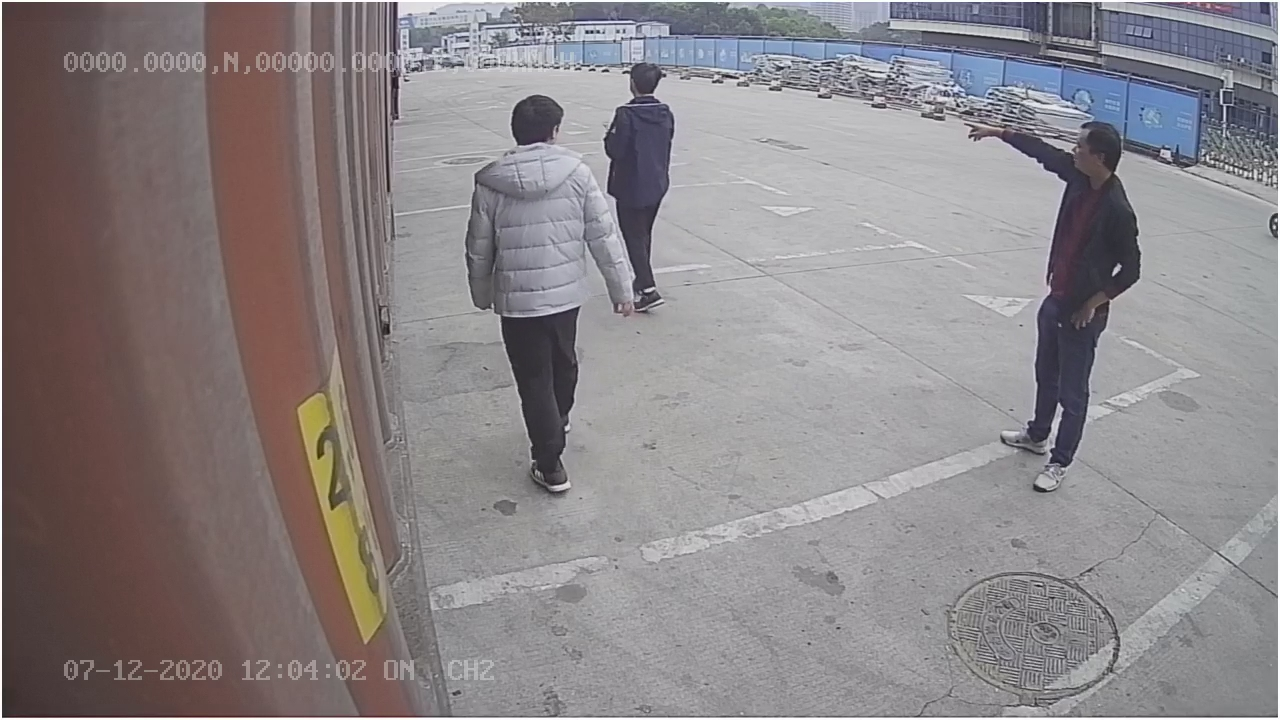person: (959, 112, 1141, 494)
